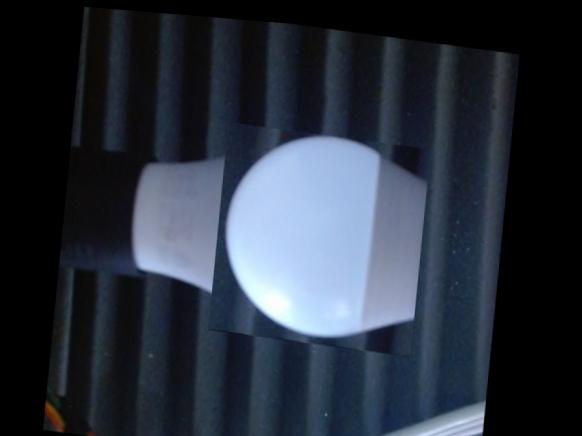Fan: (211, 116, 433, 349)
